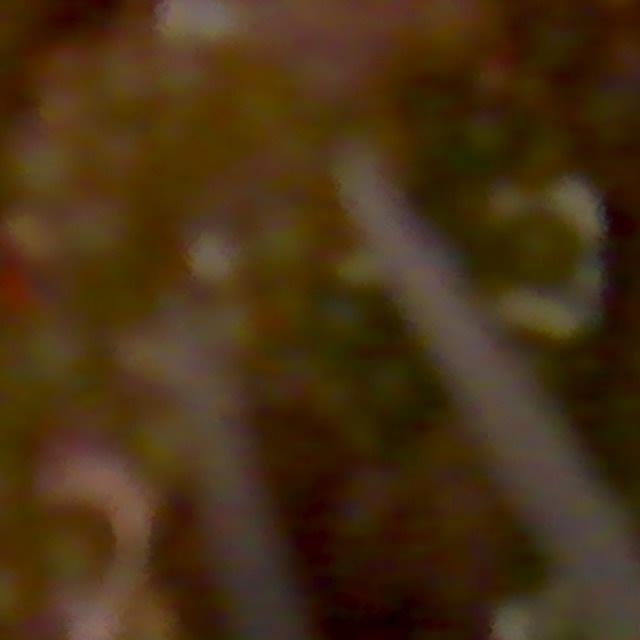SeaGrape: (28, 511, 114, 592), (18, 314, 97, 395), (64, 193, 142, 271), (6, 130, 84, 205), (251, 203, 322, 277), (574, 78, 640, 157), (457, 108, 510, 161), (604, 28, 640, 84)
